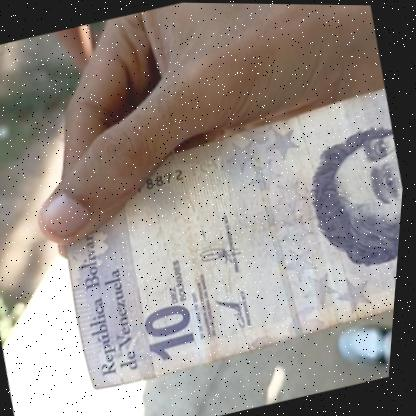ten-front-vef: (35, 79, 411, 400)
